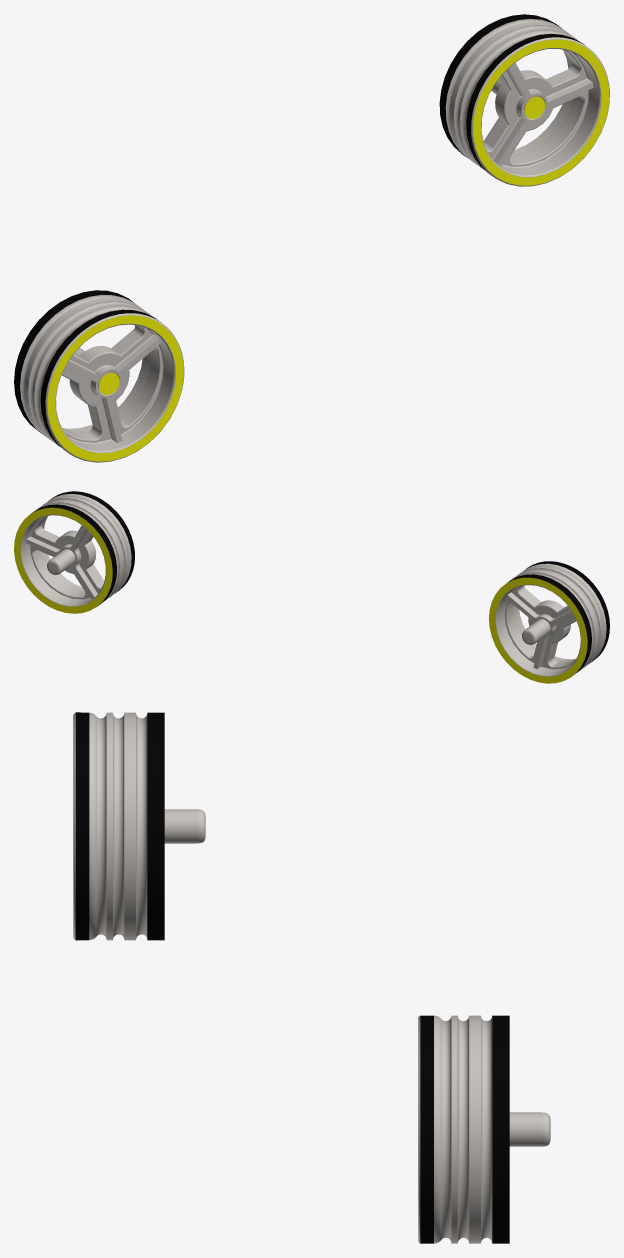
Rendered from guide_sheaves.obj.
3 renders of one model, top to bottom at view 1: azimuth 30°, elevation 25°; view 2: azimuth 150°, elevation 25°; view 3: azimuth 270°, elevation 25°, orthographic. The views are drawn at different scales.
Parts seen in each view (by area): view 1: Part6_2-1, Part6-1, Part6-2, Part6_2-2, Part6_1, Part6; view 2: Part6_2-1, Part6-1, Part6-2, Part6_2-2, Part6, Part6_1; view 3: Part6_2-1, Part6-1, Part6, Part6_1.
Part boxes in pixels (box(x1,y1,x2,y2)): Part6_2-1: box(445, 18, 609, 186); Part6-1: box(20, 294, 184, 462); Part6-2: box(47, 315, 183, 461); Part6_2-2: box(473, 39, 609, 185); Part6_1: box(439, 14, 584, 175); Part6: box(14, 290, 158, 449); Part6_2-1: box(20, 491, 134, 606); Part6-1: box(495, 563, 609, 676); Part6-2: box(489, 577, 587, 683); Part6_2-2: box(14, 507, 112, 613); Part6: box(507, 561, 609, 674); Part6_1: box(31, 491, 134, 606); Part6_2-1: box(418, 1015, 550, 1243); Part6-1: box(73, 712, 205, 940); Part6: box(75, 712, 164, 940); Part6_1: box(420, 1015, 509, 1243).
Bounding box in the file's own units: 1233 × 342 × 523.
